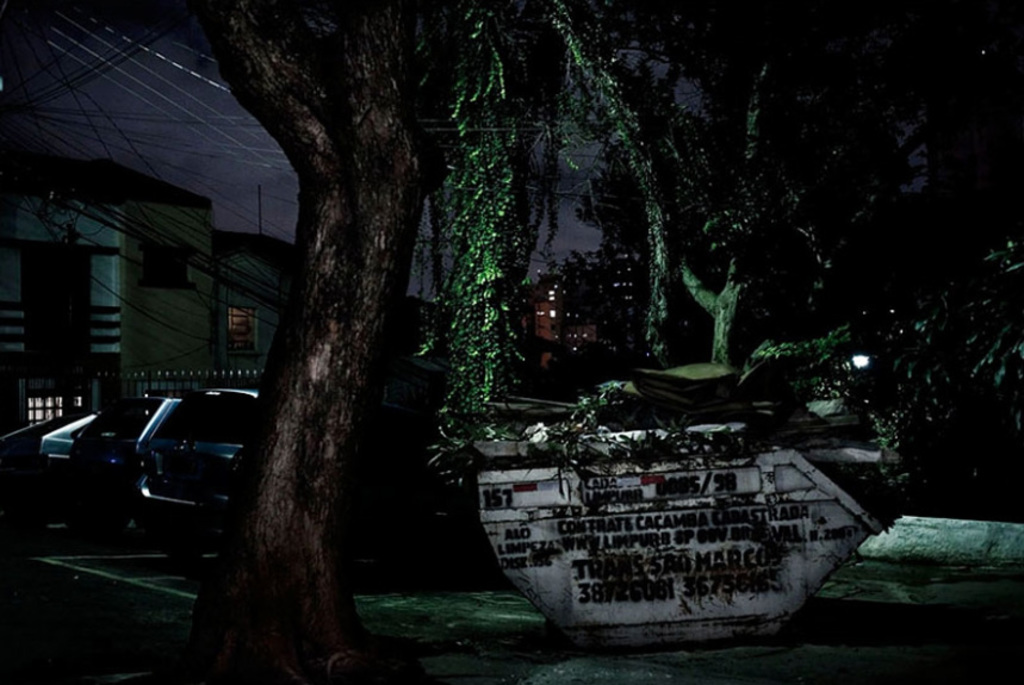Car: (134, 389, 262, 520)
